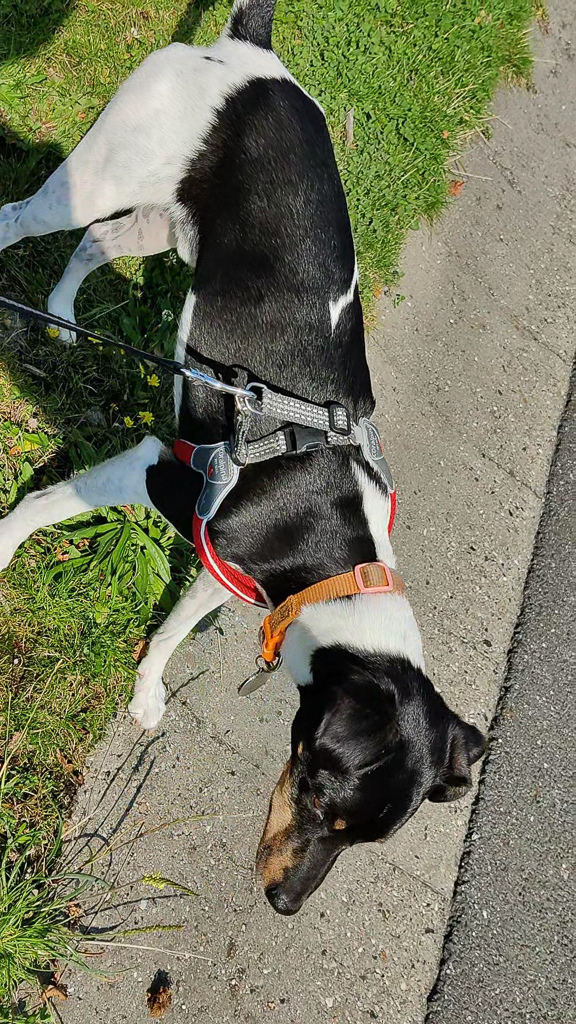Dog: (0, 0, 504, 929)
